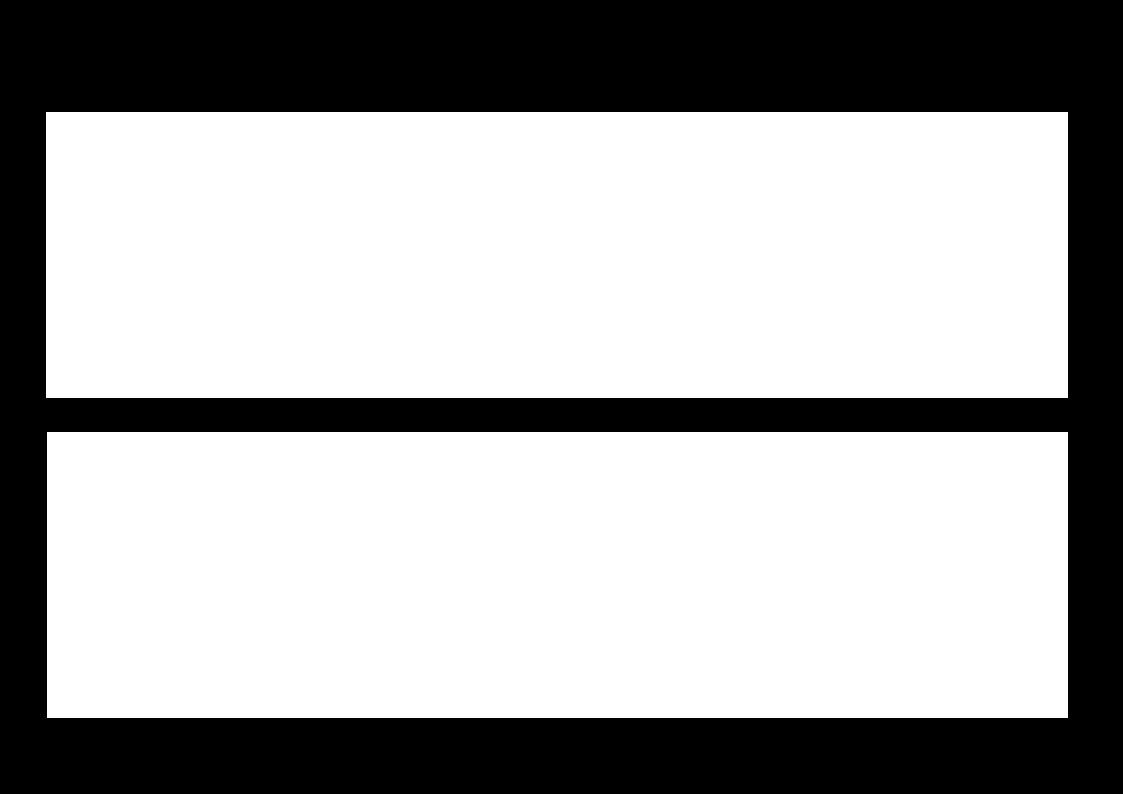table: (46, 112, 1067, 397), (47, 432, 1067, 717)
